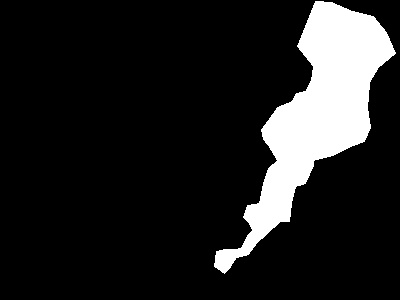Fire: (214, 195, 293, 272), (262, 116, 327, 188)
